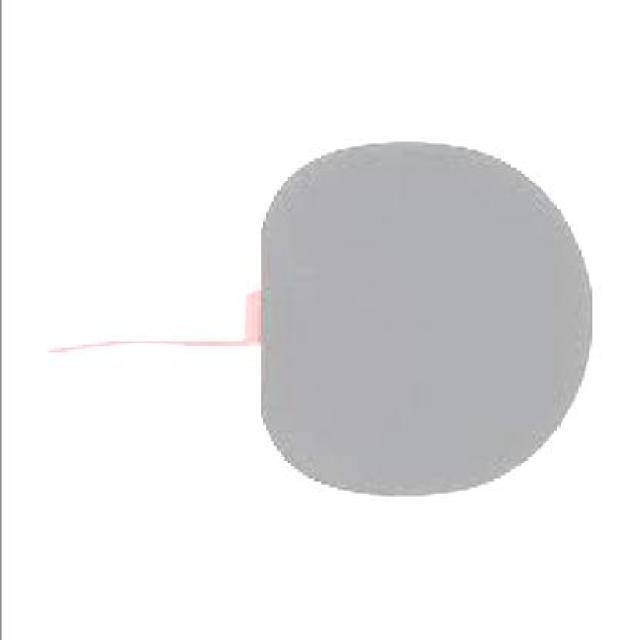table_tennis_racket: (241, 138, 601, 511)
